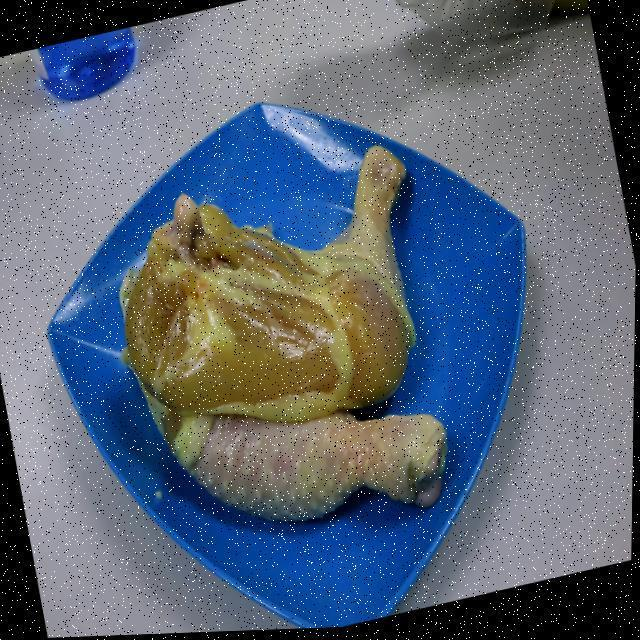quater: (153, 143, 423, 424), (182, 393, 450, 524)
